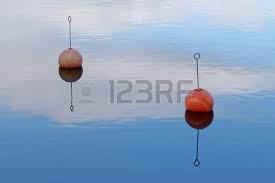buoy: (184, 89, 215, 112)
